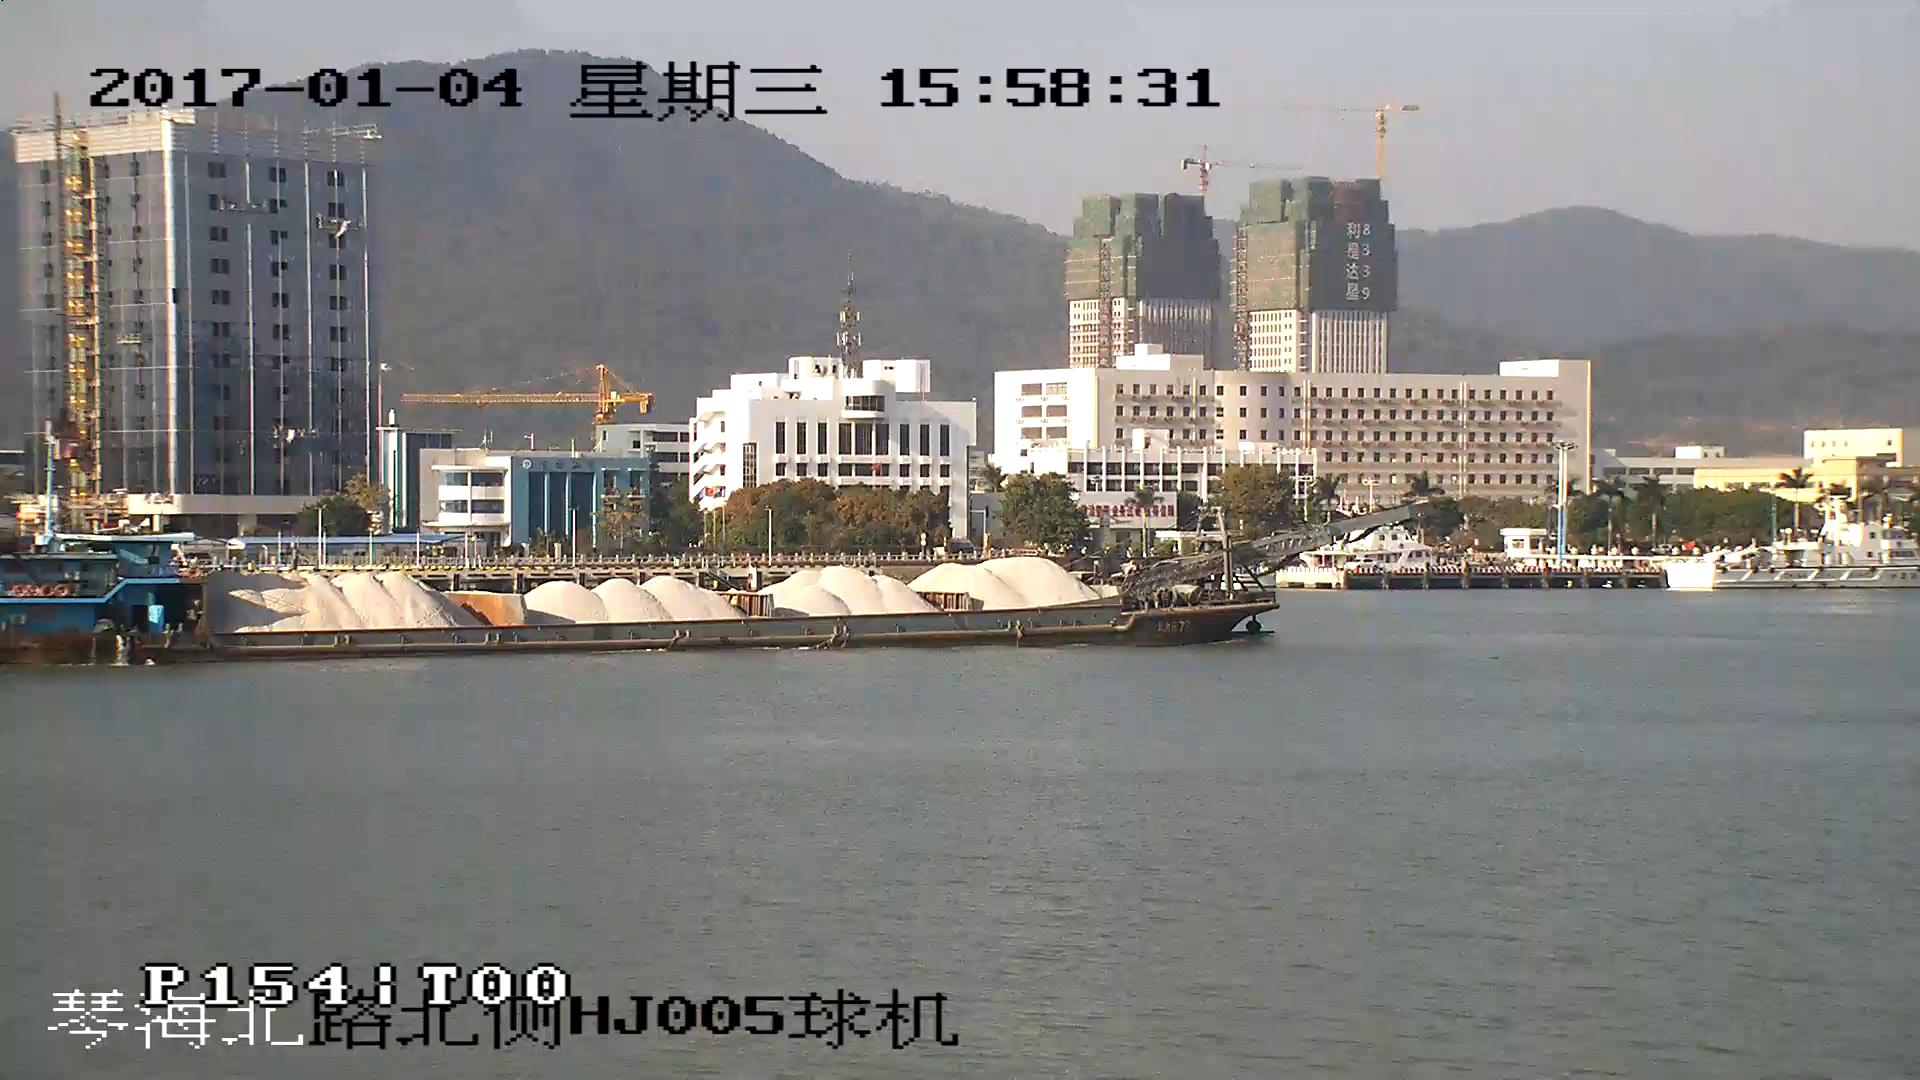ore carrier: (1, 504, 1428, 668)
